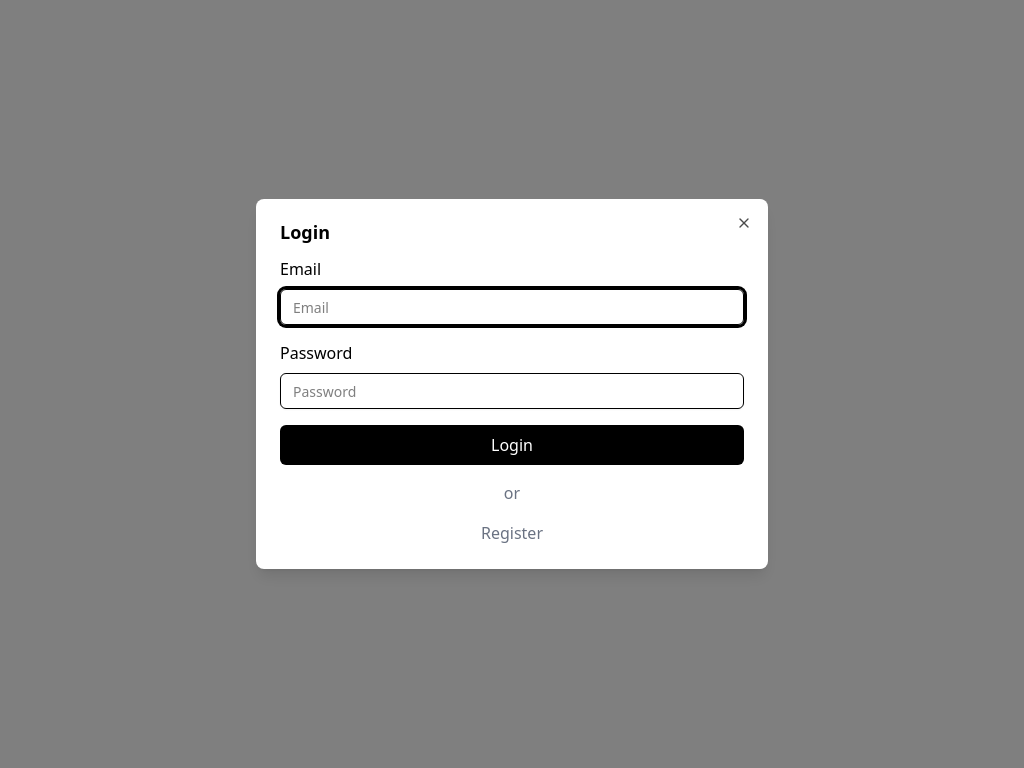
Test: AuthModal › switches to register mode and shows username input
Click the button "Register".
click(512, 533)  # box x1=280 y1=521 x2=744 y2=545
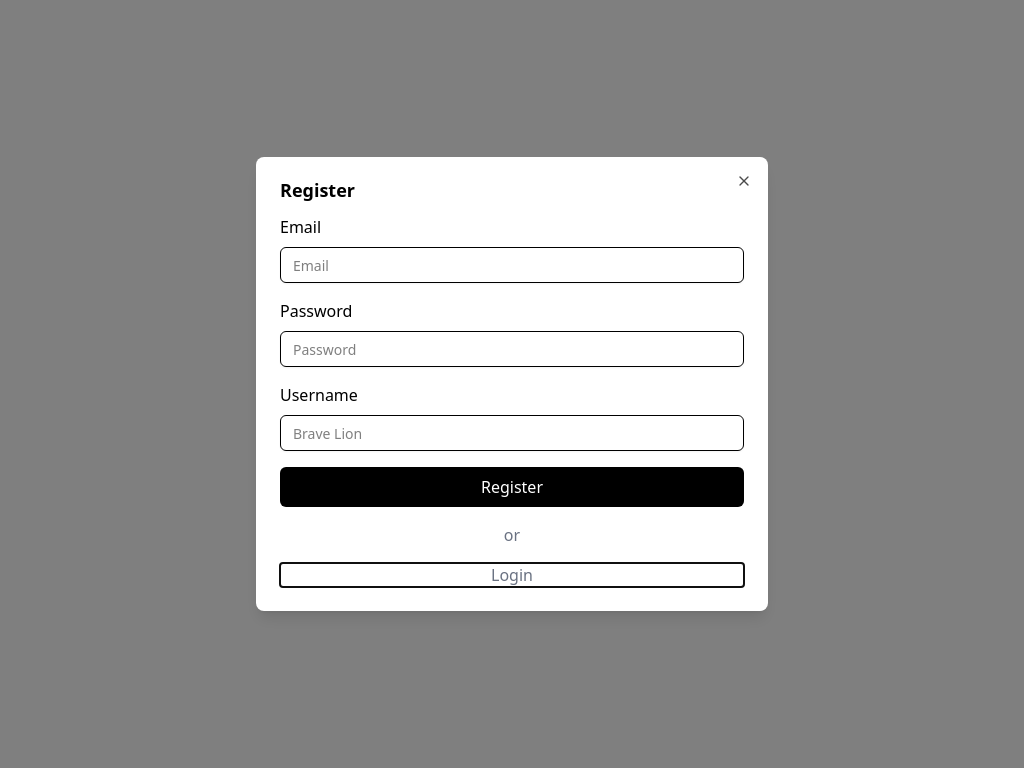
Expected: the button "Register" is shown, x1=280 y1=467 x2=744 y2=507
Expected: the field with placeholder "Brave Lion" is shown, x1=280 y1=415 x2=744 y2=451
